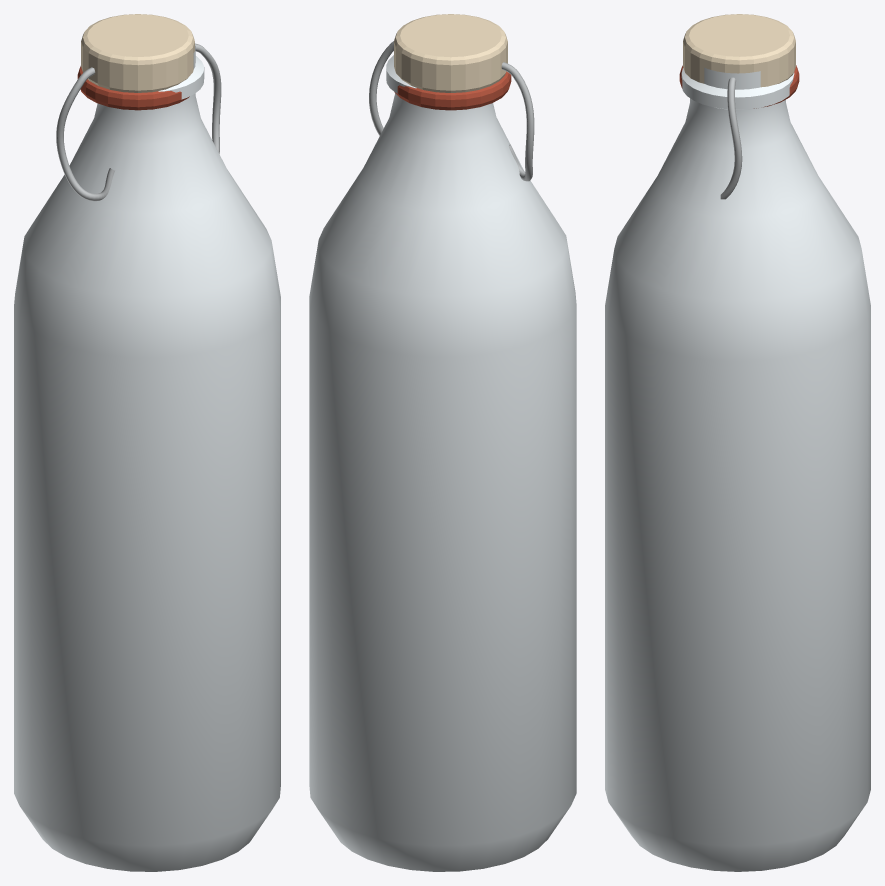
The model's file is picnic_kombucha.glb.
3 renders of one model, left to right at view 1: azimuth 30°, elevation 25°; view 2: azimuth 150°, elevation 25°; view 3: azimuth 270°, elevation 25°, orthographic.
Visible parts, largest first — view 1: juice-bottle_bottles_glass, Cream ceramic stopper, Rose rubber seal, Swing-top loop, Swing-top loop.001; view 2: juice-bottle_bottles_glass, Cream ceramic stopper, Rose rubber seal, Swing-top loop, Swing-top loop.001; view 3: juice-bottle_bottles_glass, Cream ceramic stopper, Swing-top loop.001.
Boxes of the visible parts, x1,y1,x2,y2 form: juice-bottle_bottles_glass: (14,45,280,871); Cream ceramic stopper: (81,14,194,92); Rose rubber seal: (77,66,189,110); Swing-top loop: (56,67,114,201); Swing-top loop.001: (195,43,221,153); juice-bottle_bottles_glass: (309,55,576,871); Cream ceramic stopper: (394,14,507,92); Rose rubber seal: (394,71,511,110); Swing-top loop: (501,62,534,181); Swing-top loop.001: (369,41,393,135); juice-bottle_bottles_glass: (605,67,870,871); Cream ceramic stopper: (683,14,795,87); Swing-top loop.001: (720,77,742,199).
Size of the model in its own units: 0.08 by 0.261 by 0.08.
